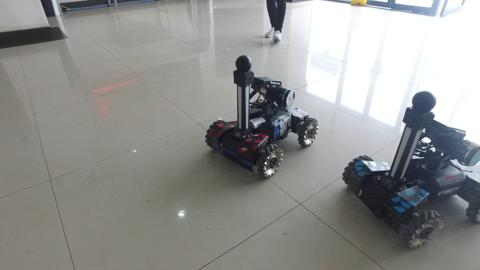chariot: (341, 88, 480, 252), (197, 52, 322, 182)
